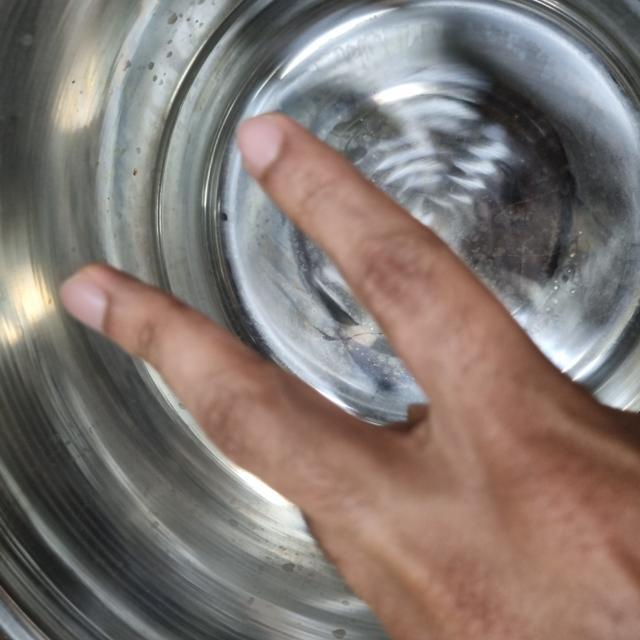Scissors: (0, 66, 523, 637)
